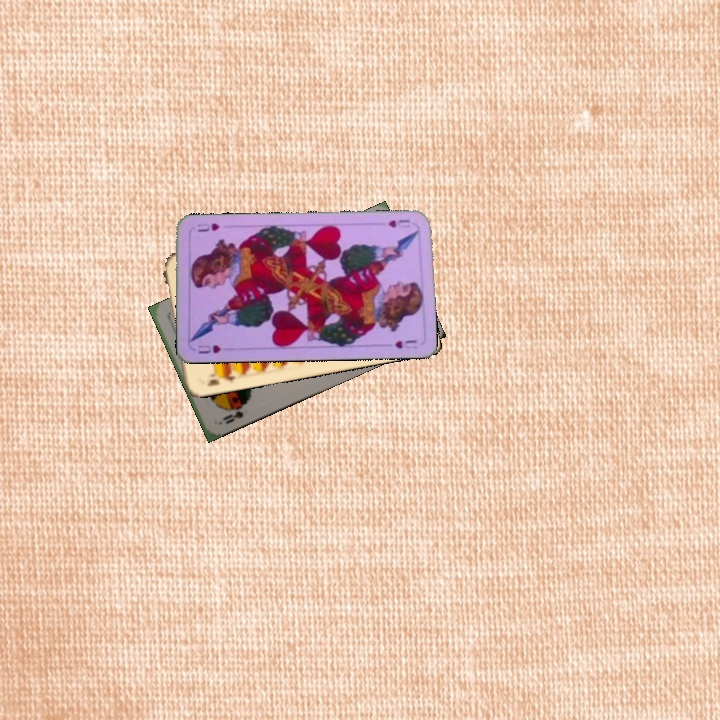E10: (203, 367, 238, 389)
HU: (195, 341, 223, 356), (384, 216, 413, 230)
SO: (218, 407, 246, 426)
